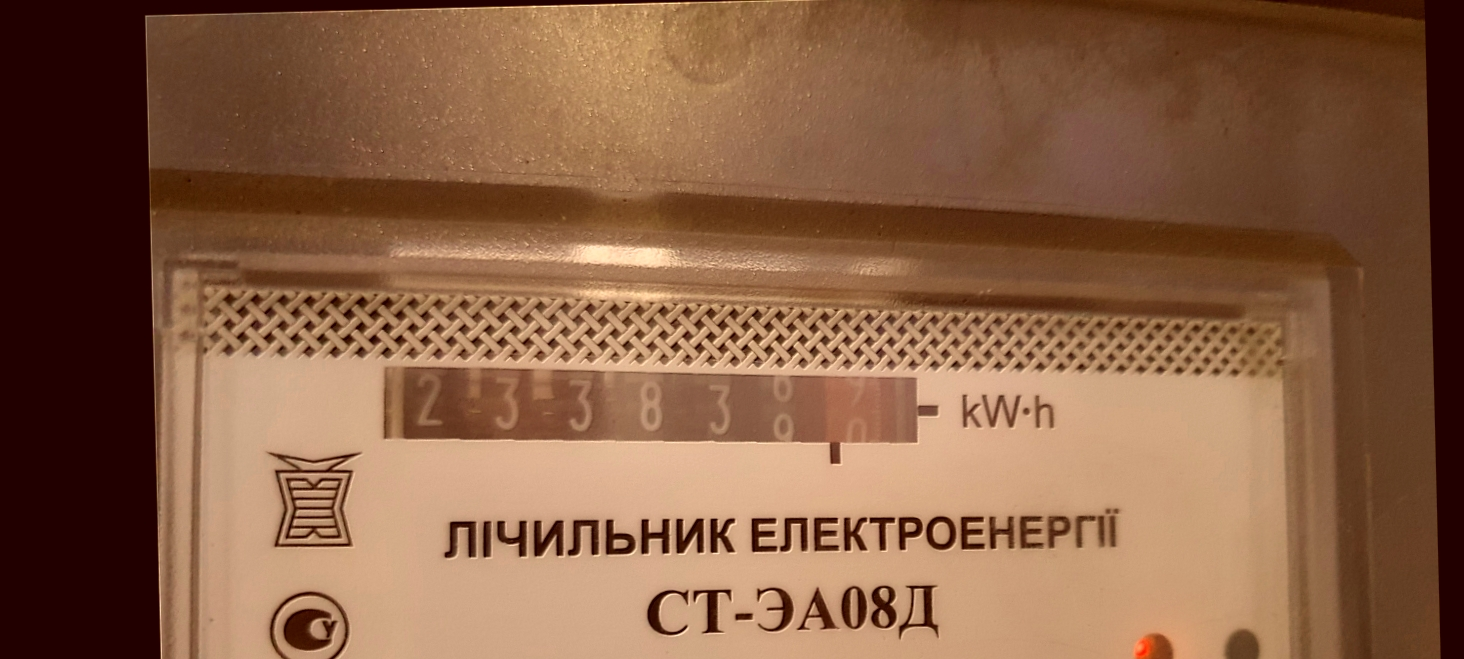0: (843, 414, 870, 449)
2: (410, 369, 450, 430)
3: (561, 372, 598, 437), (705, 378, 735, 436), (492, 373, 521, 432)
8: (633, 375, 668, 434), (770, 371, 797, 403)
9: (840, 371, 871, 410), (770, 409, 799, 446)
screen: (352, 331, 949, 501)
